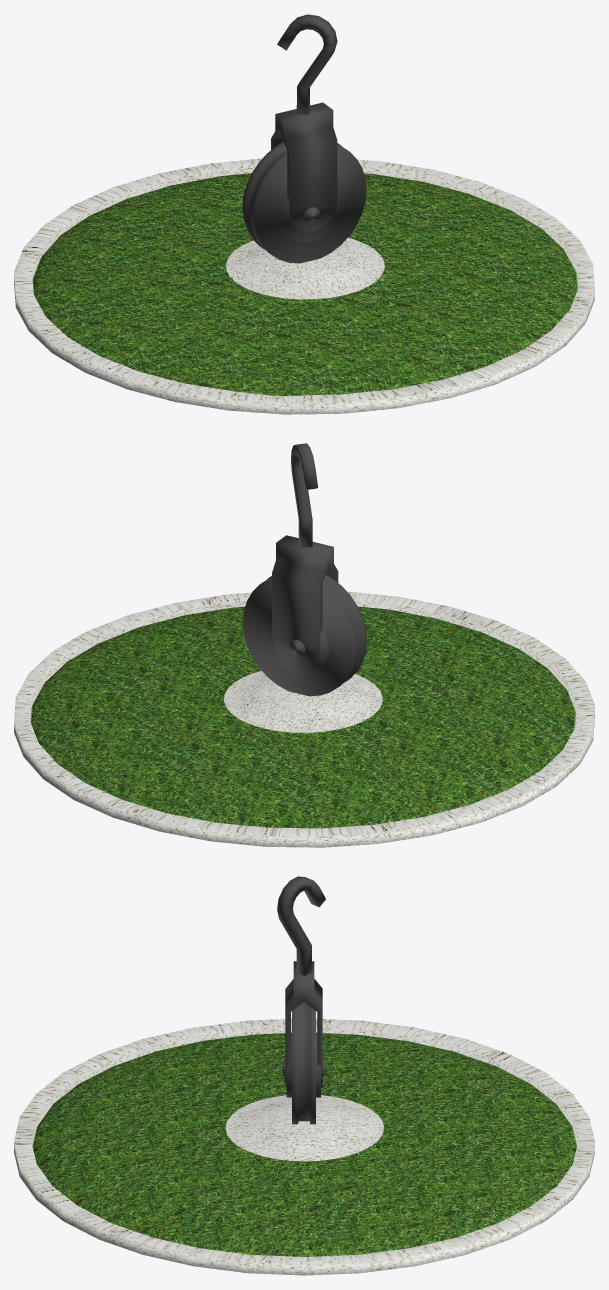
File: polea.fbx
The picture shows the model from 3 angles, top to bottom: view 1: azimuth 30°, elevation 25°; view 2: azimuth 150°, elevation 25°; view 3: azimuth 270°, elevation 25°; orthographic projection.
Parts seen in each view (by area): view 1: Sphere, Cylinder.001; view 2: Sphere, Cylinder.001; view 3: Sphere, Cylinder.001.
Part boxes in pixels (bbox=[...]): Sphere: bbox=[14, 158, 594, 414]; Cylinder.001: bbox=[242, 14, 366, 263]; Sphere: bbox=[14, 591, 594, 847]; Cylinder.001: bbox=[242, 443, 366, 696]; Sphere: bbox=[14, 1018, 594, 1275]; Cylinder.001: bbox=[277, 876, 325, 1124].
Bounding box in the file's own units: 213 × 111 × 213.
3 materials, 2 textured.
